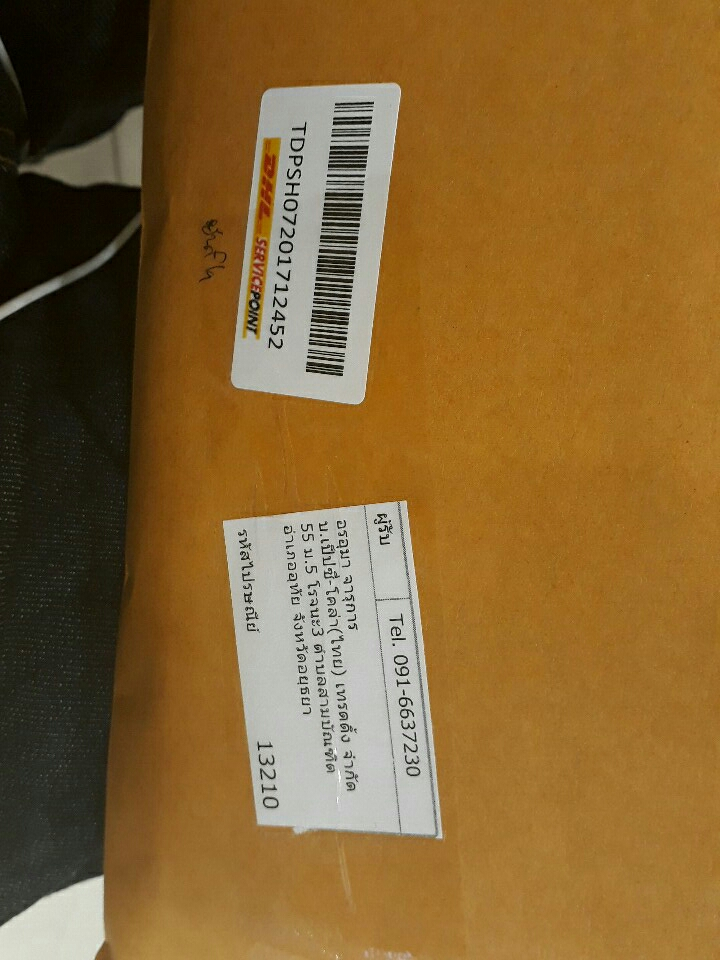ba: (225, 74, 405, 416)
txt: (234, 509, 424, 822)
